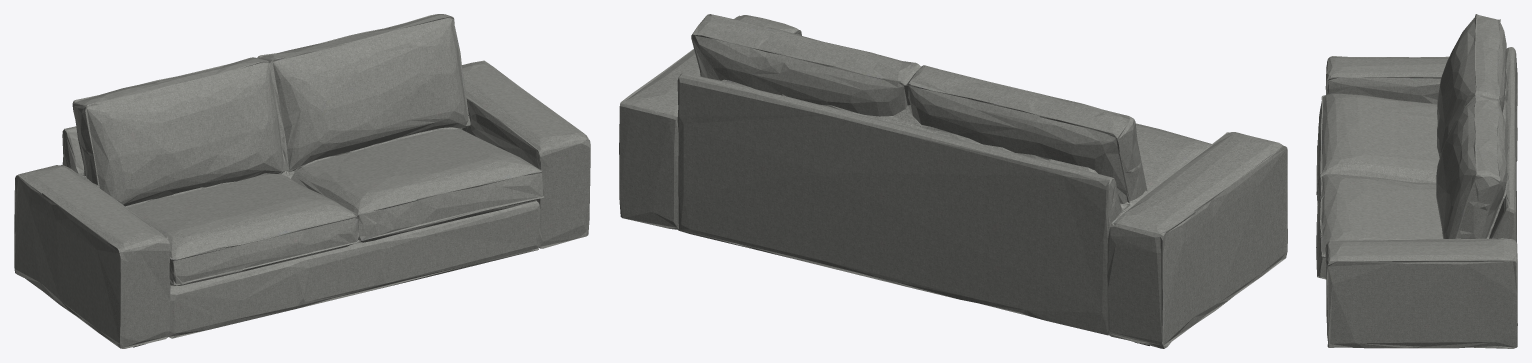
3 views of the same model, side by side, from view 1: azimuth 30°, elevation 25°; view 2: azimuth 150°, elevation 25°; view 3: azimuth 270°, elevation 25° (orthographic). The views are drawn at different scales.
Parts seen in each view (by area): view 1: ProcessedGeometry; view 2: ProcessedGeometry; view 3: ProcessedGeometry.
Part boxes in pixels (left/top/right/bottom): ProcessedGeometry: left=14, top=14, right=590, bottom=348; ProcessedGeometry: left=619, top=14, right=1287, bottom=348; ProcessedGeometry: left=1316, top=14, right=1517, bottom=348.
Bounding box in the file's own units: 2.28 × 0.83 × 0.95.
Materials: 1 (1 with a texture image).
